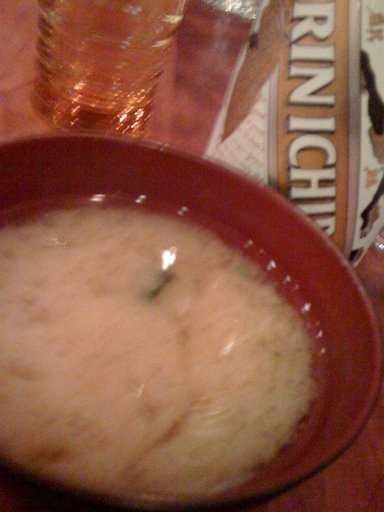soup: (1, 161, 289, 491)
